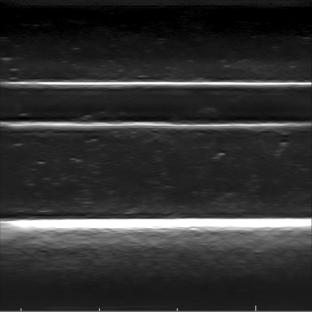vessel: (4, 78, 308, 130)
